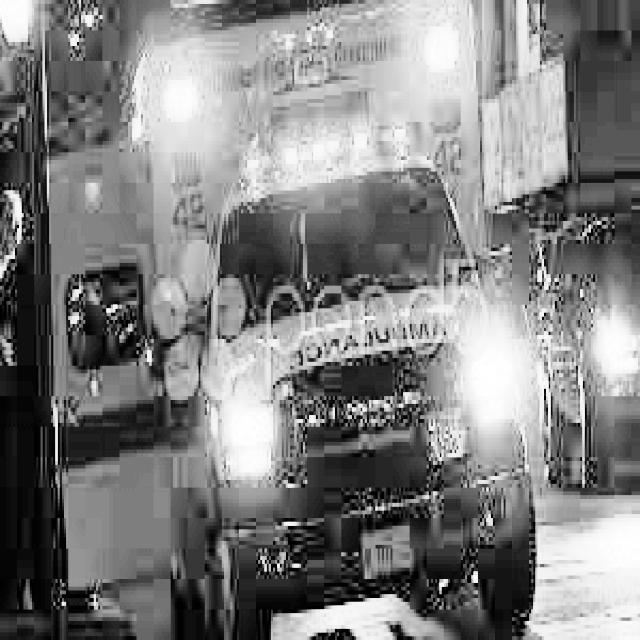Ambulance: (157, 21, 477, 143)
